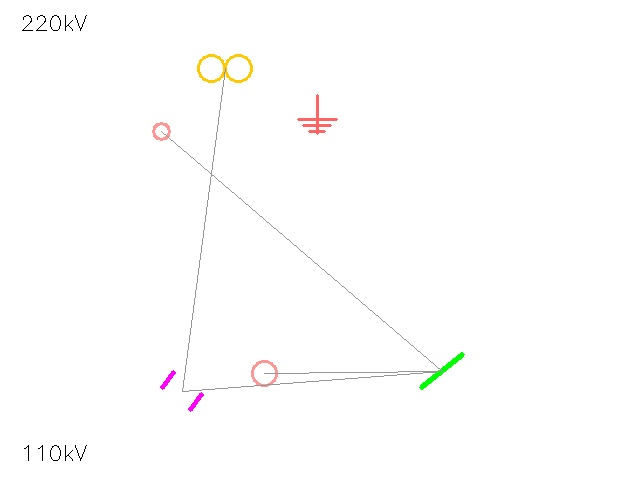busbar: (409, 338, 475, 404)
capacitor: (152, 361, 212, 421)
disconnect_switch: (240, 349, 288, 397)
ground: (298, 95, 336, 133)
surge_arrester: (145, 115, 177, 147)
transformer_2w: (191, 34, 259, 102)
